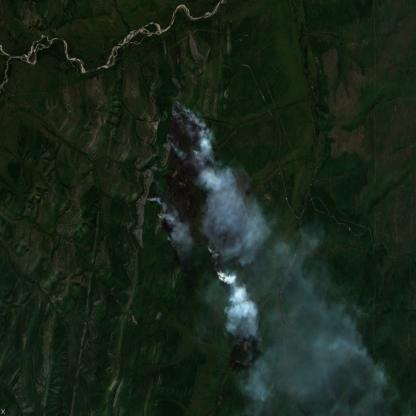fire: (145, 97, 256, 285)
